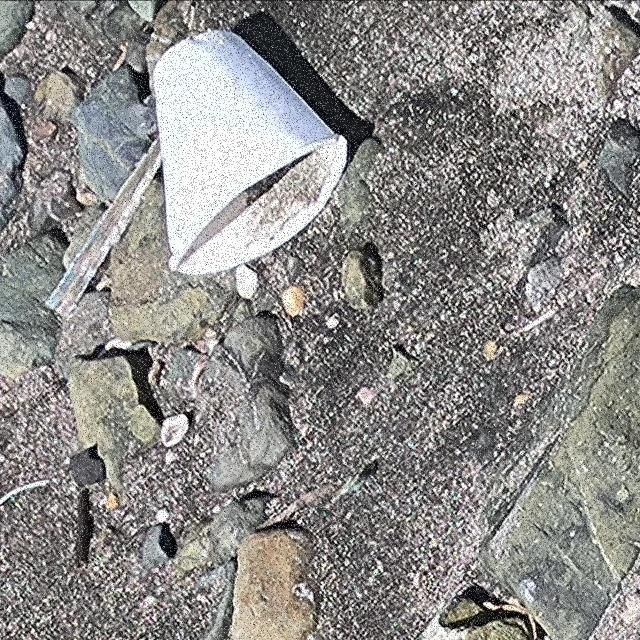styrofoam_waste: (155, 31, 350, 278)
